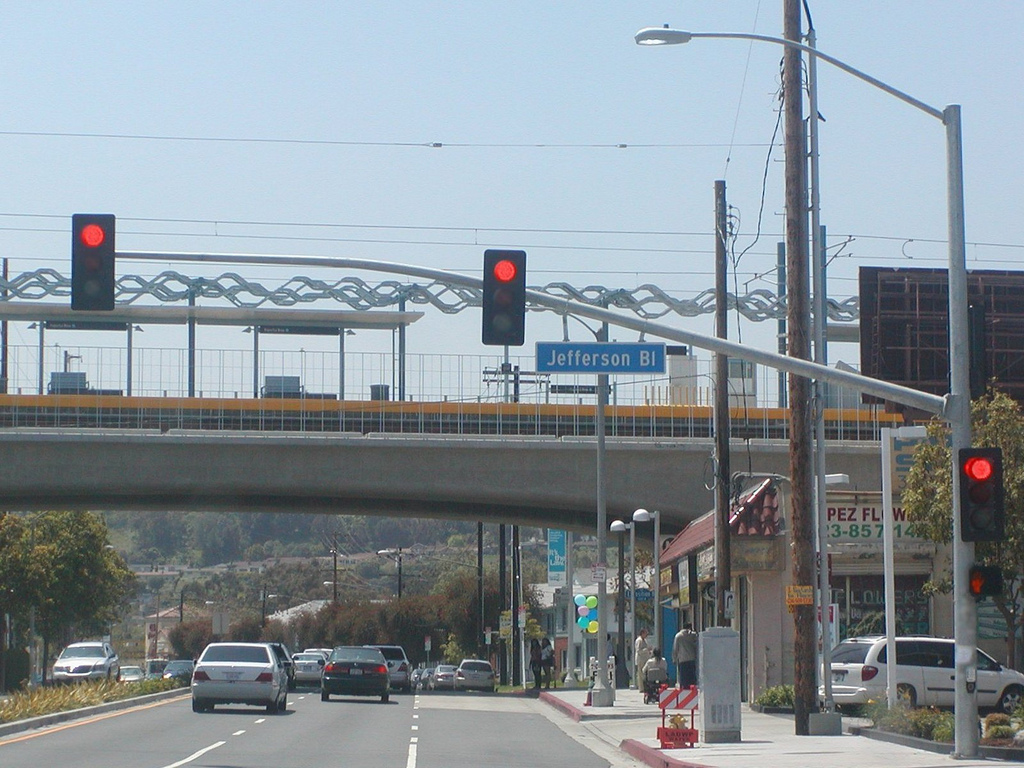traffic_light: (69, 211, 117, 313), (957, 446, 1007, 543), (481, 248, 528, 347)
